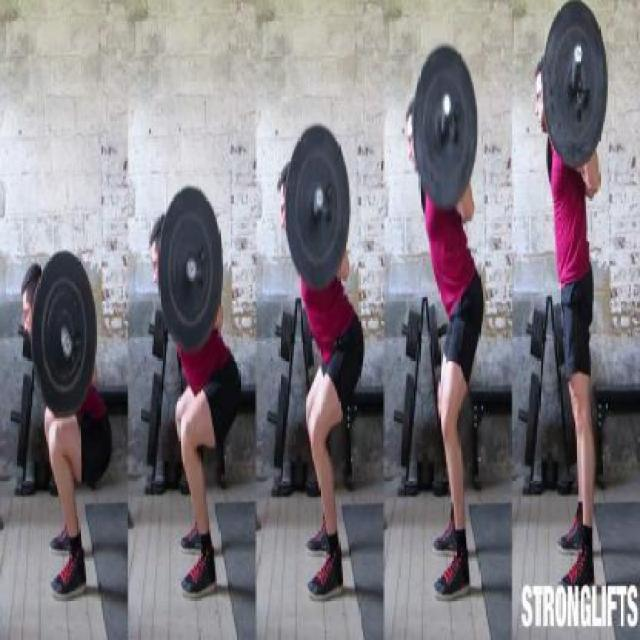barbell: (406, 43, 484, 217), (280, 122, 355, 295), (536, 1, 612, 170), (157, 186, 227, 357), (34, 248, 99, 421)
